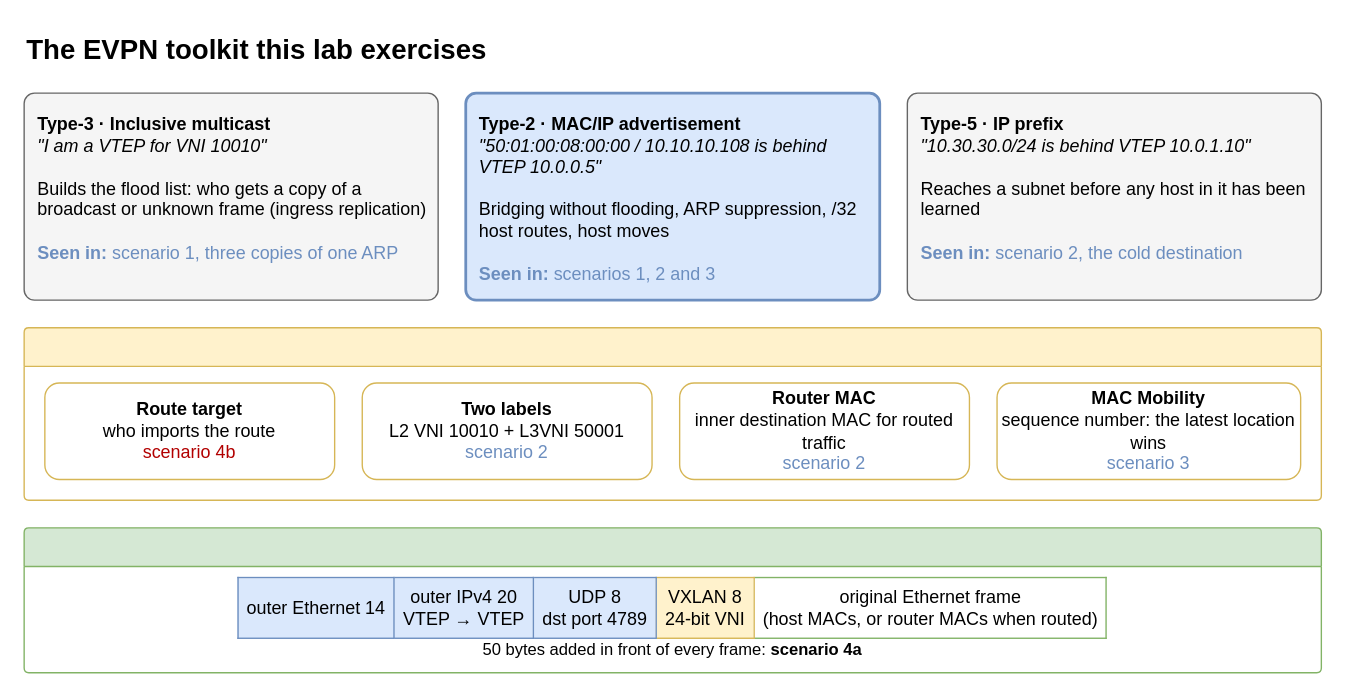
Some shapes in this 1346 by 697 pixel diagram are drawn without their labels. Here are the shapes that lost their labels. From the top down, the box of each, then its label:
(23, 326, 1321, 500): Attributes carried with the routes
(23, 526, 1321, 673): Data plane: VXLAN
